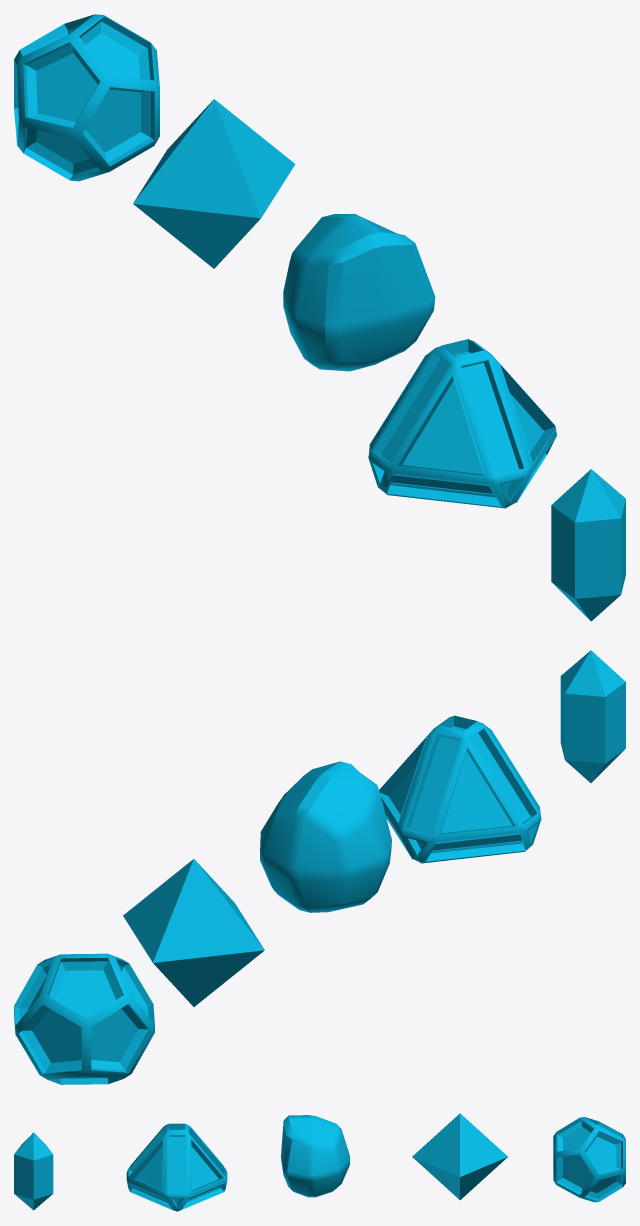
Rendered from Crystals.fbx.
3 renders of one model, top to bottom at view 1: azimuth 30°, elevation 25°; view 2: azimuth 150°, elevation 25°; view 3: azimuth 270°, elevation 25°, orthographic. The views are drawn at different scales.
Parts seen in each view (by area): view 1: Crystal_4, crystal2, Crystal9, Crystal10, Crystal11; view 2: Crystal_4, Crystal9, crystal2, Crystal10, Crystal11; view 3: Crystal_4, crystal2, Crystal9, Crystal10, Crystal11.
Boxes of the visible parts, box(x1,y1,x2,y2) form: Crystal_4: box(368, 339, 556, 508); crystal2: box(14, 14, 159, 181); Crystal9: box(283, 213, 435, 371); Crystal10: box(133, 99, 295, 268); Crystal11: box(551, 469, 625, 621); Crystal_4: box(379, 715, 541, 863); Crystal9: box(260, 761, 391, 912); crystal2: box(14, 953, 154, 1084); Crystal10: box(123, 859, 264, 1006); Crystal11: box(560, 650, 625, 782); Crystal_4: box(126, 1123, 227, 1211); crystal2: box(553, 1117, 625, 1202); Crystal9: box(281, 1115, 350, 1197); Crystal10: box(412, 1113, 507, 1199); Crystal11: box(14, 1132, 53, 1210).
Bounding box in the file's own units: 0.4826 × 0.4966 × 2.57.
